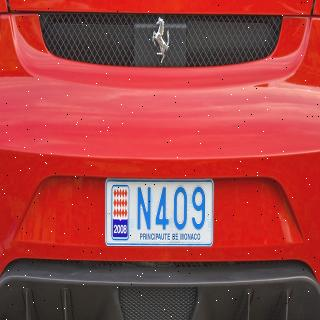license: (103, 171, 219, 255)
